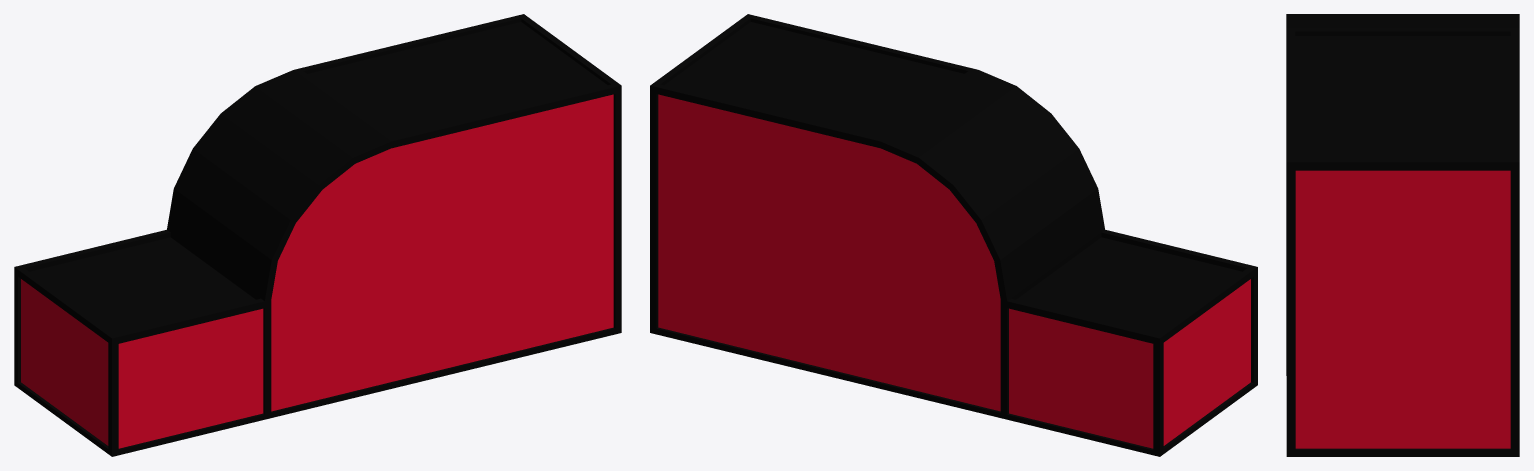
3 renders of one model, left to right at view 1: azimuth 30°, elevation 25°; view 2: azimuth 150°, elevation 25°; view 3: azimuth 270°, elevation 25°, orthographic. The views are drawn at different scales.
Visible parts, largest first — view 1: Building11; view 2: Building11; view 3: Building11.
Part boxes in pixels (x1,y1,x2,y2): Building11: (14,14,621,456); Building11: (650,14,1257,456); Building11: (1286,14,1519,456).
Size of the model in its own units: 15567 by 7227 by 5179.
